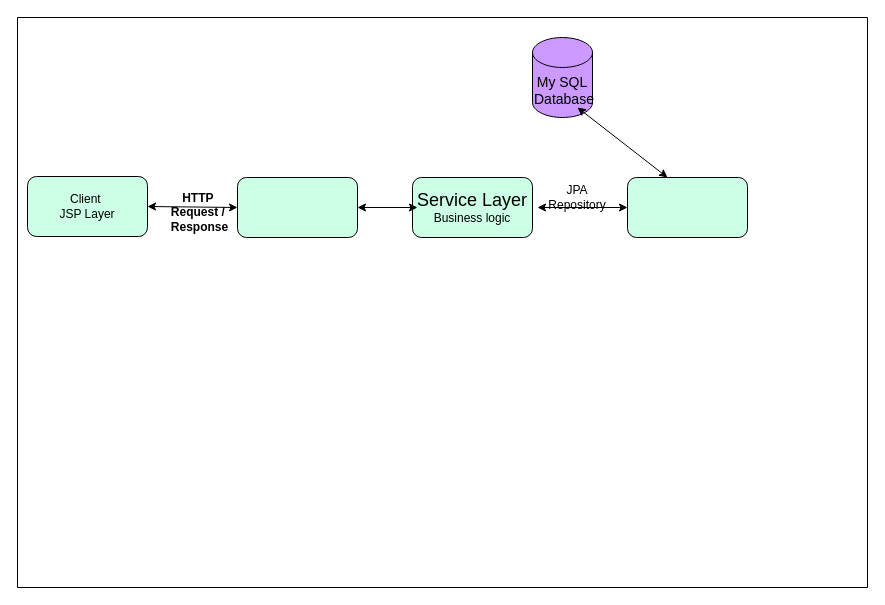
Image size: 885x605. Some labels were removed from this diagram. The shapes that lost their labels are listed below. From the top down, each one's centre as x and y in pixels, then its label:
At (x=297, y=207): "Controller Routing agent and painting Views".
At (x=687, y=207): "Repository / Model".
